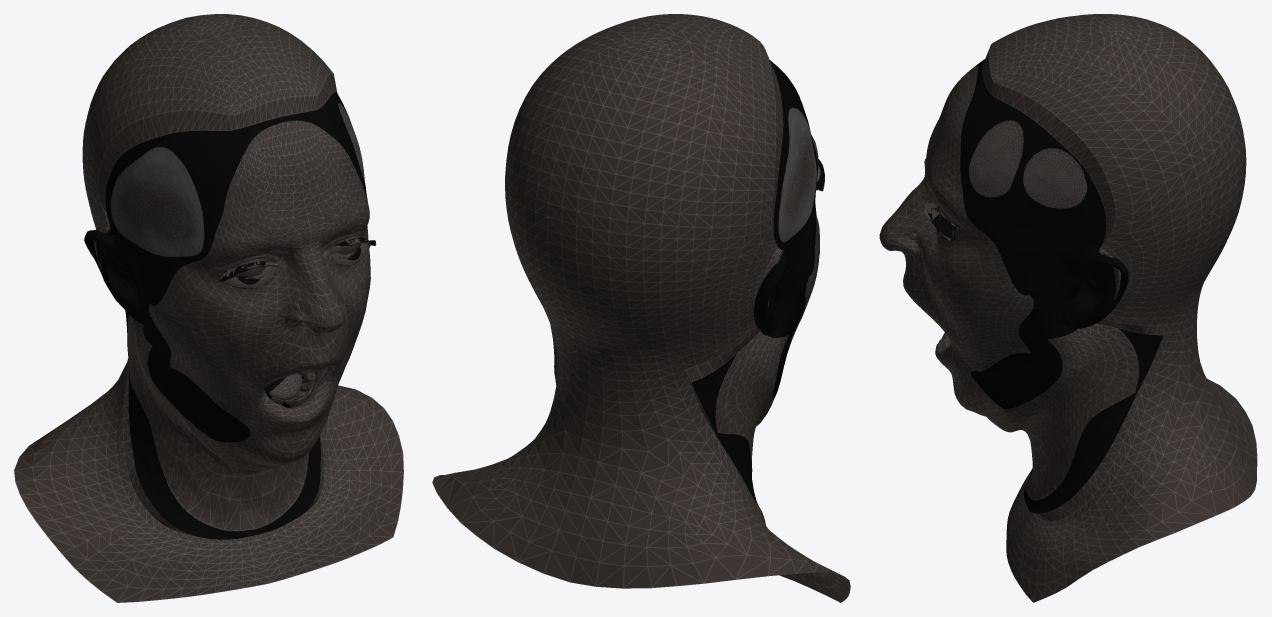
Rendered from ict_mediapipe_M_BackHead_textured.obj.
3 renders of one model, left to right at view 1: azimuth 30°, elevation 25°; view 2: azimuth 150°, elevation 25°; view 3: azimuth 270°, elevation 25°, orthographic. The views are drawn at different scales.
Size of the model in its own units: 1.02 by 1.38 by 0.9253.
1 material, 1 textured.
